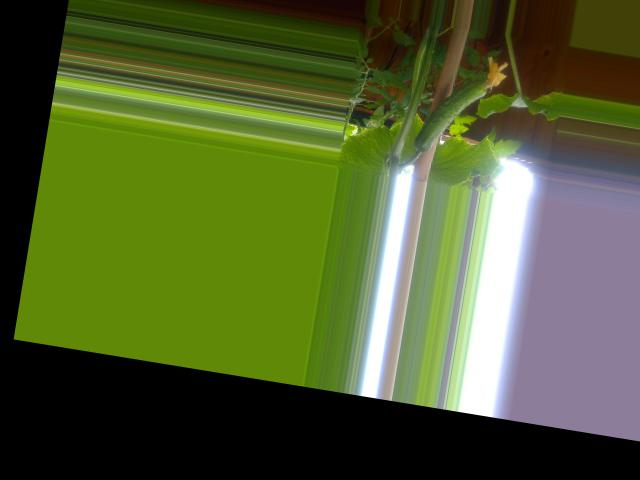cucumber: (413, 46, 510, 163)
